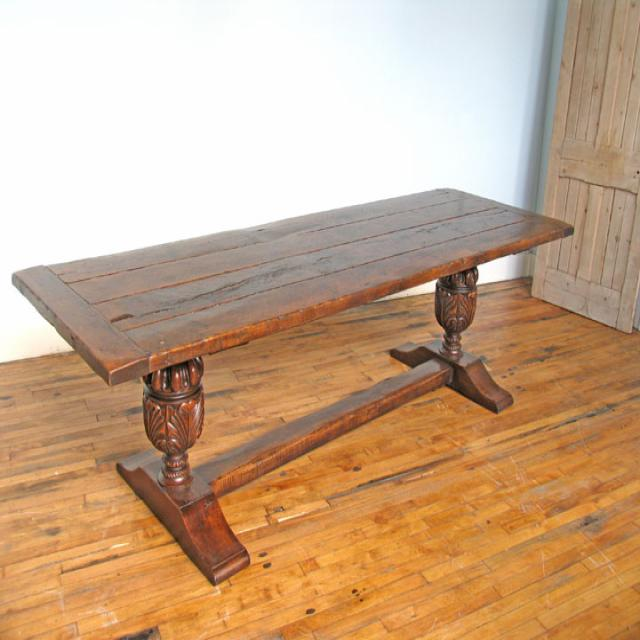table: (11, 185, 574, 585)
